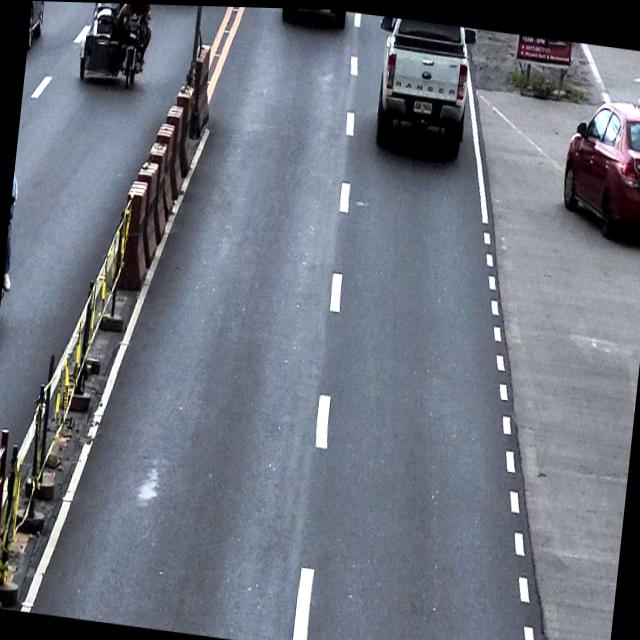Car: (367, 14, 477, 156), (558, 88, 640, 237), (26, 1, 49, 54)
License-Plate: (412, 95, 432, 113)
Tricycle: (74, 2, 155, 91)
